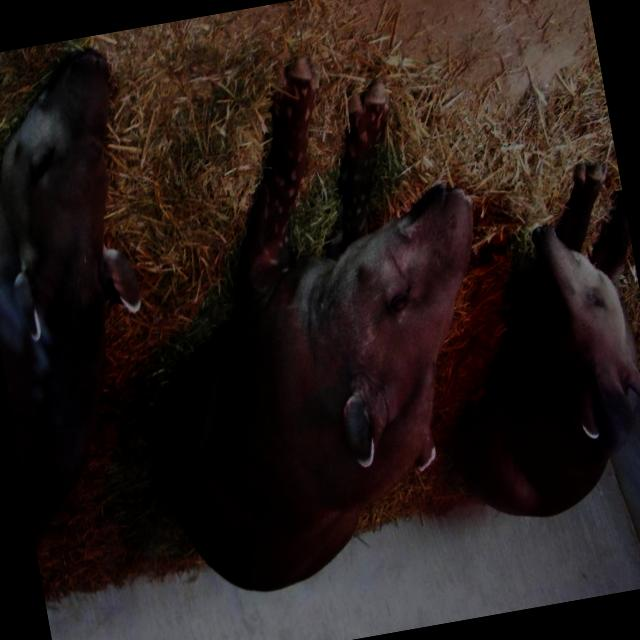pig: (157, 58, 472, 589), (0, 51, 140, 546), (454, 165, 640, 516)
